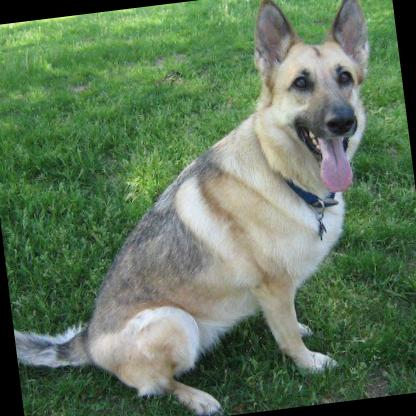German_shepherd: (0, 0, 408, 416)
